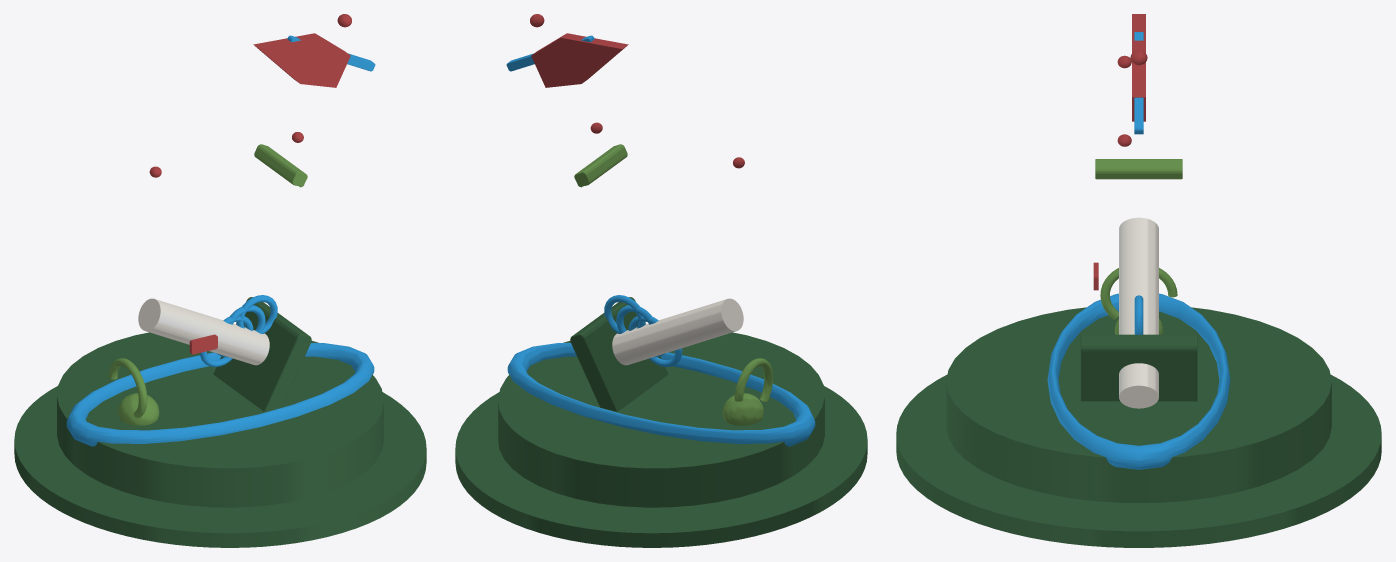
The model's file is 0213_生活中的物理图鉴_日晷.glb.
3 renders of one model, left to right at view 1: azimuth 30°, elevation 25°; view 2: azimuth 150°, elevation 25°; view 3: azimuth 270°, elevation 25°, orthographic. The views are drawn at different scales.
Visible parts, largest first — view 1: card_0213; view 2: card_0213; view 3: card_0213.
Part boxes in pixels (bbox=[...]): card_0213: bbox=[14, 14, 426, 547]; card_0213: bbox=[455, 14, 867, 547]; card_0213: bbox=[896, 14, 1381, 547].
Bounding box in the file's own units: 0.8775 × 1 × 0.926.
